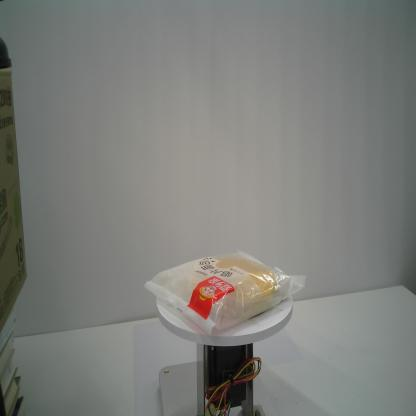Dessert: (141, 246, 306, 336)
